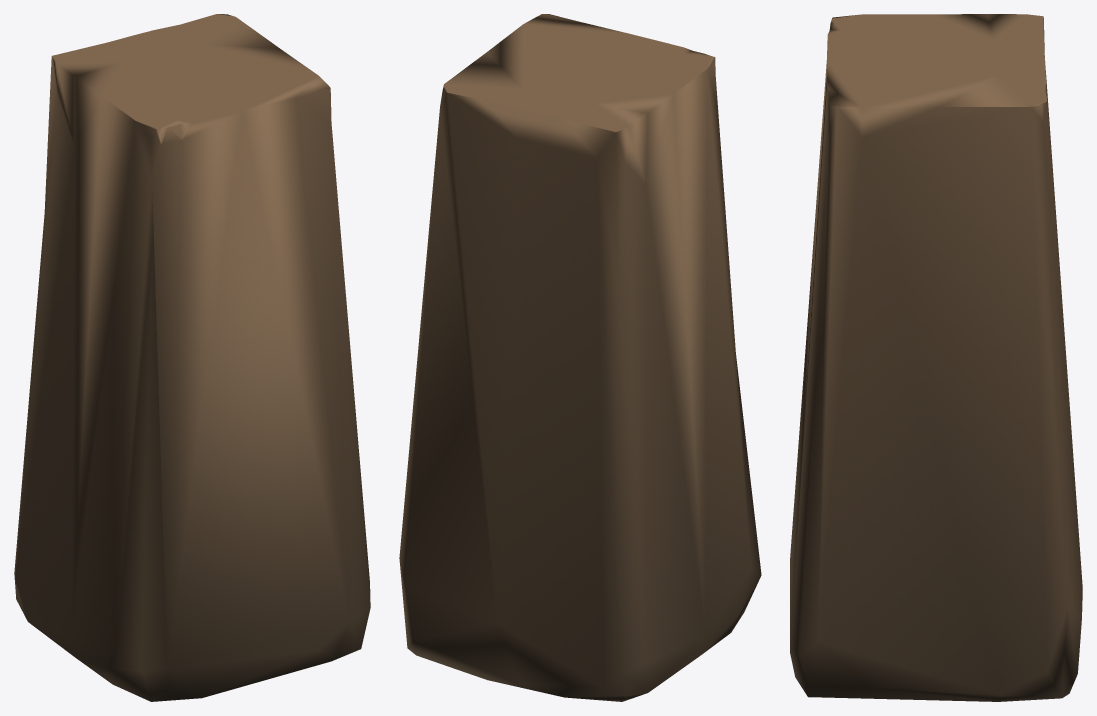
Rendered from TileBot_pillar.fbx.
3 views of the same model, side by side, from view 1: azimuth 30°, elevation 25°; view 2: azimuth 150°, elevation 25°; view 3: azimuth 270°, elevation 25° (orthographic). The views are drawn at different scales.
Parts seen in each view (by area): view 1: TileBotFlat; view 2: TileBotFlat; view 3: TileBotFlat.
Part boxes in pixels (x1,y1,x2,y2): TileBotFlat: (14,14,370,701); TileBotFlat: (399,14,761,701); TileBotFlat: (790,14,1082,701).
Size of the model in its own units: 294 by 649 by 292.
